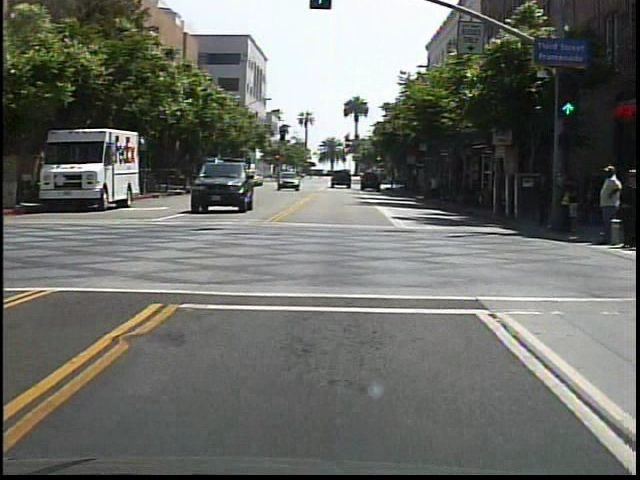person: (593, 166, 621, 246), (533, 161, 555, 233)
